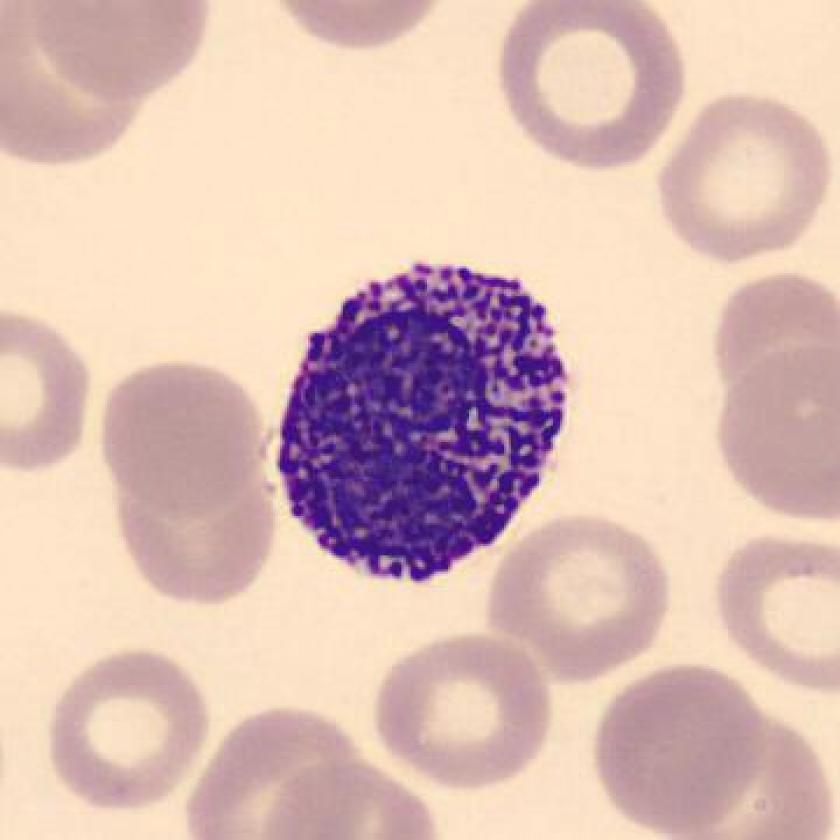basophil: (267, 246, 582, 591)
